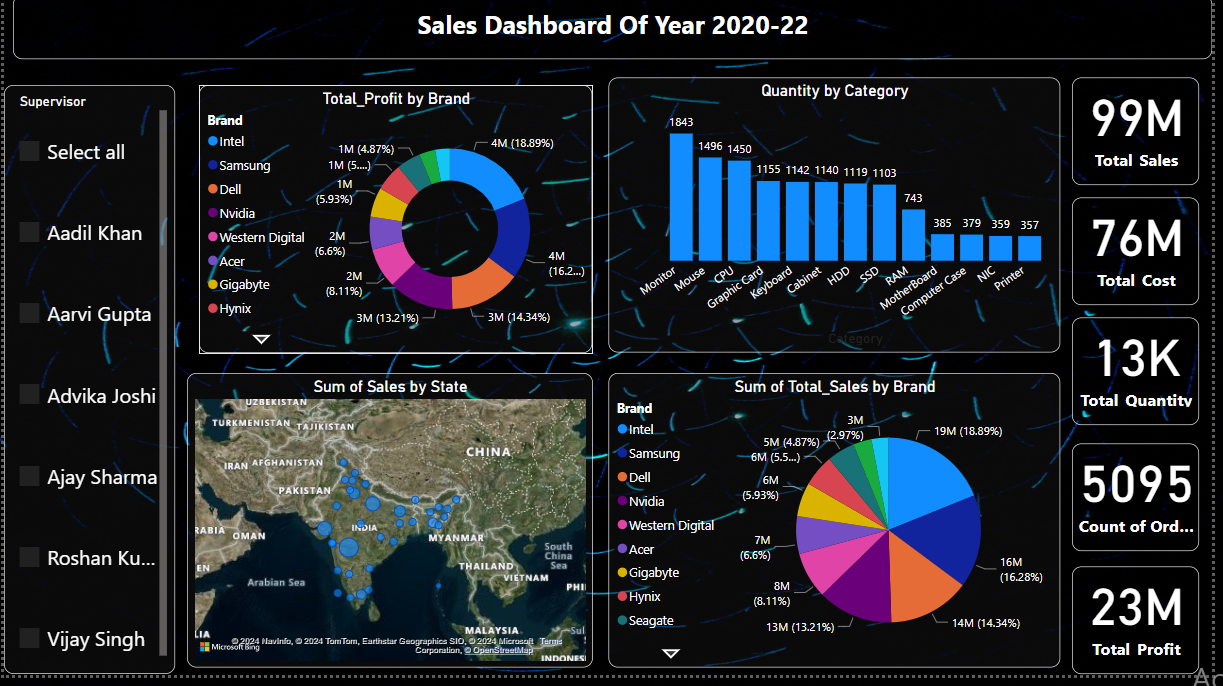

The page's visual inventory and layout, read from the dashboard file:
{"tool":"powerbi","page":{"name":"Page 1","canvas":[1280,720],"ordinal":0},"visuals":[{"type":"textbox","box":[9.4,0,1270.6,68],"z":0},{"type":"card","fields":{"Values":["Sales_Data.Total_Sales"]},"box":[1132.4,87.8,134.5,114],"z":1000},{"type":"card","fields":{"Values":["Sales_Data.Total_Cost"]},"box":[1132.4,214.9,134.5,114],"z":2000},{"type":"card","fields":{"Values":["Sales_Data.Quantity"]},"box":[1132.4,342,134.5,114],"z":3000},{"type":"card","fields":{"Values":["Sales_Data.Order_Number"]},"box":[1132.4,474.6,134.5,114],"z":4000},{"type":"card","fields":{"Values":["Sales_Data.Total_Profit"]},"box":[1132.4,605.4,134.5,114],"z":5000},{"type":"clusteredColumnChart","title":"Quantity by Category","fields":{"Category":["Sales_Data.Category"],"Y":["Sales_Data.Quantity"]},"box":[640.9,87.8,478.4,291.5],"z":6000},{"type":"pieChart","fields":{"Y":["Sales_Data.Total_Sales"],"Category":["Sales_Data.Brand"]},"box":[640.9,399.9,478.4,312.1],"z":7000},{"type":"map","fields":{"Size":["Sales_Data.Sales"],"Category":["State_list.State"]},"box":[194.3,399.9,429.8,312.1],"z":8000},{"type":"slicer","fields":{"Values":["Supervisor.Supervisor"]},"box":[0,95.3,181.3,624.1],"z":9000},{"type":"donutChart","fields":{"Category":["Sales_Data.Brand"],"Y":["Sales_Data.Total_Profit"]},"box":[207.4,95.3,416.7,284],"z":10000}]}

Visuals, with their boxes in screenshot pixels (x1, y1, x2, y2), scaled from the page's 1280x720 canvas onto the 1223x686 screenshot:
textbox: (9,0,1222,65)
card - Sales_Data.Total_Sales: (1082,84,1210,192)
card - Sales_Data.Total_Cost: (1082,205,1210,313)
card - Sales_Data.Quantity: (1082,326,1210,434)
card - Sales_Data.Order_Number: (1082,452,1210,561)
card - Sales_Data.Total_Profit: (1082,577,1210,685)
"Quantity by Category" clusteredColumnChart: (612,84,1069,361)
pieChart - Sales_Data.Total_Sales x Sales_Data.Brand: (612,381,1069,678)
map - Sales_Data.Sales x State_list.State: (186,381,596,678)
slicer - Supervisor.Supervisor: (0,91,173,685)
donutChart - Sales_Data.Brand x Sales_Data.Total_Profit: (198,91,596,361)
